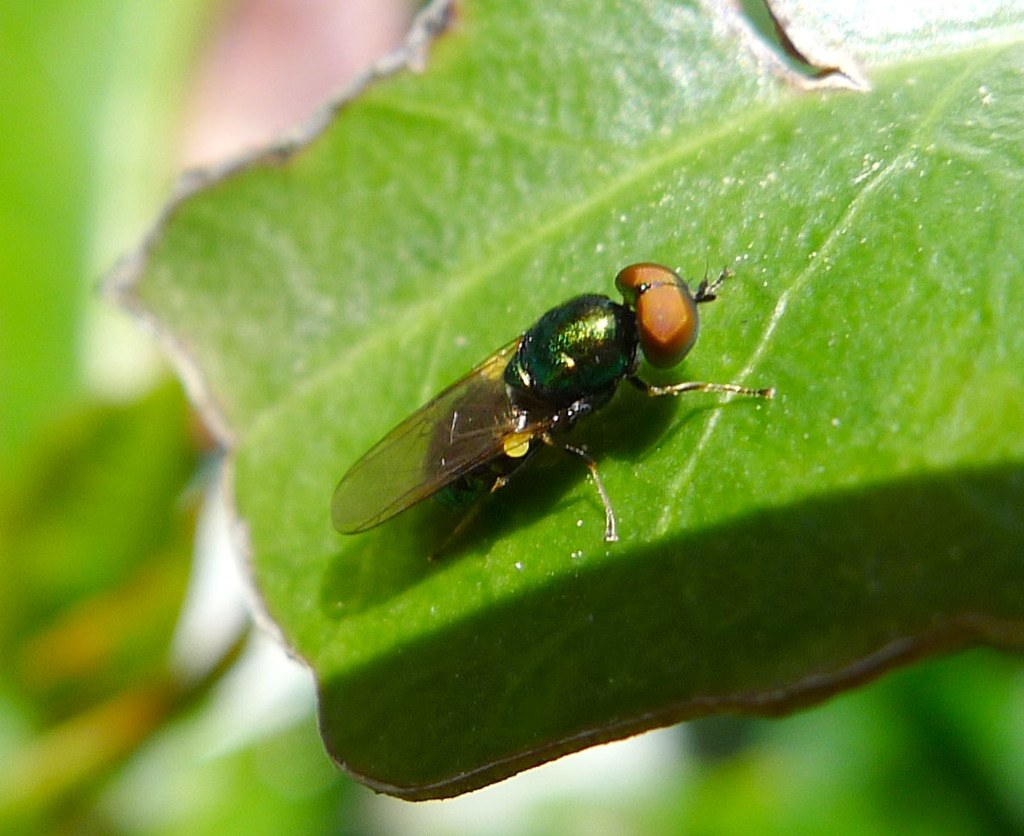insect: (0, 0, 1023, 835), (324, 263, 781, 548)
